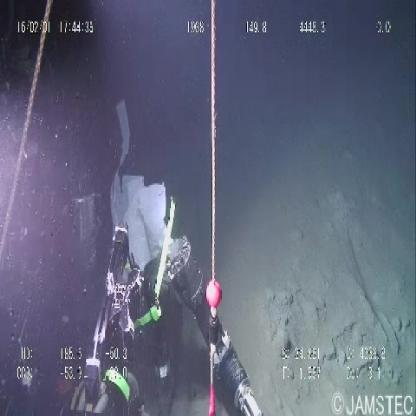Rov: (79, 217, 262, 416)
Rác: (105, 154, 175, 273)
